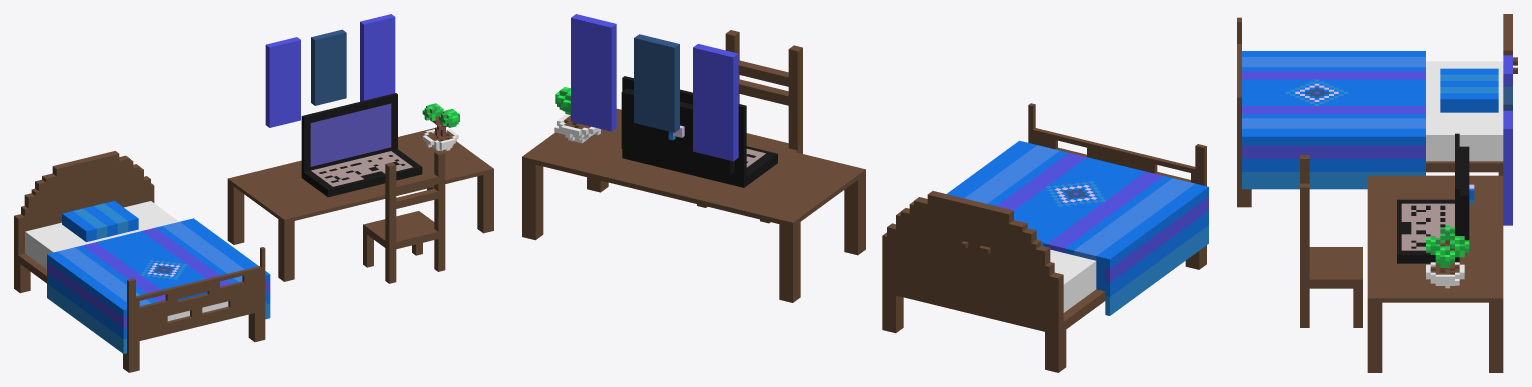
The picture shows the model from 3 angles, left to right: view 1: azimuth 30°, elevation 25°; view 2: azimuth 150°, elevation 25°; view 3: azimuth 270°, elevation 25°; orthographic projection. The views are drawn at different scales.
Visible parts, largest first — view 1: v1; view 2: v1; view 3: v1.
Part boxes in pixels (left/top/right/bottom): v1: left=14, top=14, right=493, bottom=372; v1: left=522, top=14, right=1208, bottom=372; v1: left=1237, top=14, right=1517, bottom=372.
Size of the model in its own units: 12.1 by 5 by 5.8.
1 material, 1 textured.
